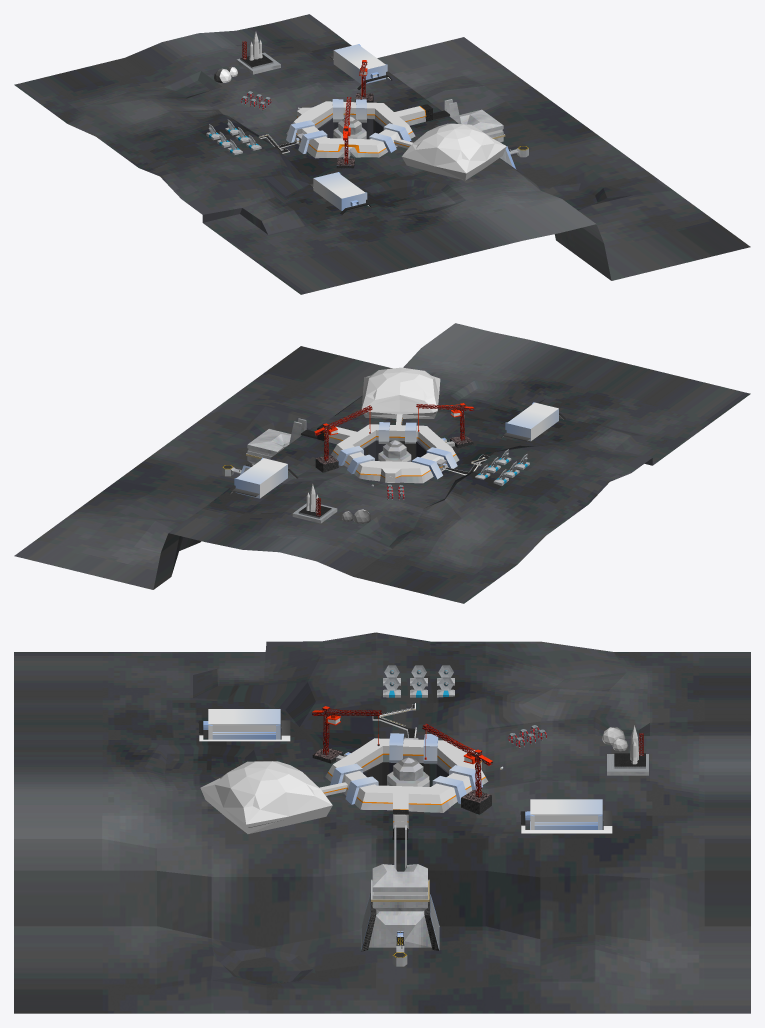
The model's file is World3_1.fbx.
3 views of the same model, one above another, from view 1: azimuth 30°, elevation 25°; view 2: azimuth 150°, elevation 25°; view 3: azimuth 270°, elevation 25° (orthographic). The views are drawn at different scales.
Visible parts, largest first — view 1: Ground, Core, Greenhouse, Warehouse.001, Warehouse, Base, Cube.014, Radar array, Launchpad, Cube.015, Crane.002; view 2: Ground, Core, Greenhouse, Warehouse, Base, Warehouse.001, Cube.014, Crane.001, Radar array, Crane.002, Cube.015, Launchpad; view 3: Ground, Core, Greenhouse, Base, Warehouse, Warehouse.001, Radar array, Cube.014, Crane.001, Crane.002, Launchpad, Cube.015.
Boxes of the visible parts, <box> form: Ground: <box>14,14,750,294</box>; Core: <box>258,101,449,158</box>; Greenhouse: <box>401,123,506,180</box>; Warehouse.001: <box>309,172,370,214</box>; Warehouse: <box>329,44,391,89</box>; Base: <box>444,99,528,169</box>; Cube.014: <box>332,99,411,152</box>; Radar array: <box>206,119,261,155</box>; Launchpad: <box>236,41,280,74</box>; Cube.015: <box>286,120,327,153</box>; Crane.002: <box>336,97,354,168</box>; Ground: <box>14,323,750,603</box>; Core: <box>301,414,489,483</box>; Greenhouse: <box>361,367,440,418</box>; Warehouse: <box>229,457,298,498</box>; Base: <box>222,418,306,476</box>; Warehouse.001: <box>501,402,565,441</box>; Cube.014: <box>336,422,416,473</box>; Crane.001: <box>314,405,372,472</box>; Radar array: <box>475,449,529,485</box>; Crane.002: <box>416,403,474,448</box>; Cube.015: <box>412,447,457,479</box>; Launchpad: <box>292,498,337,523</box>; Ground: <box>14,632,750,1013</box>; Core: <box>319,703,488,839</box>; Greenhouse: <box>200,761,332,833</box>; Base: <box>361,825,439,966</box>; Warehouse: <box>520,799,612,833</box>; Warehouse.001: <box>198,709,290,741</box>; Radar array: <box>383,665,454,697</box>; Cube.014: <box>330,763,482,804</box>; Crane.001: <box>422,723,492,814</box>; Crane.002: <box>312,706,382,763</box>; Launchpad: <box>607,733,648,775</box>; Cube.015: <box>389,733,438,763</box>.
Bounding box in the file's own units: 34449 × 10638 × 38052.
